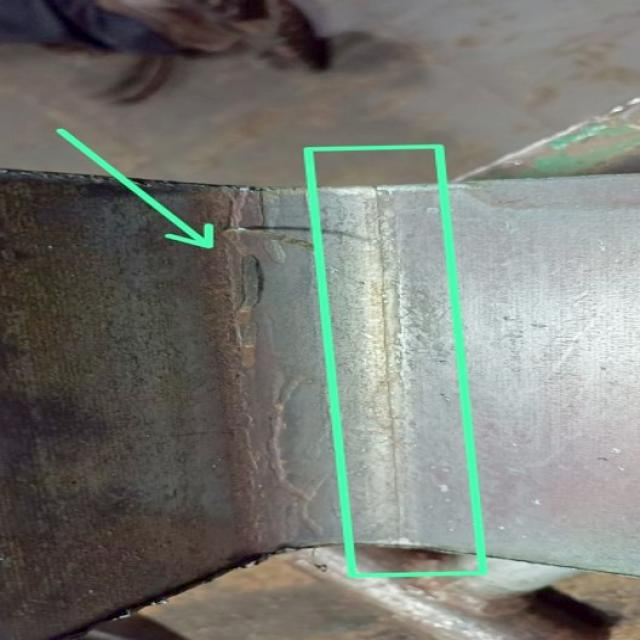defect: (198, 178, 418, 566)
